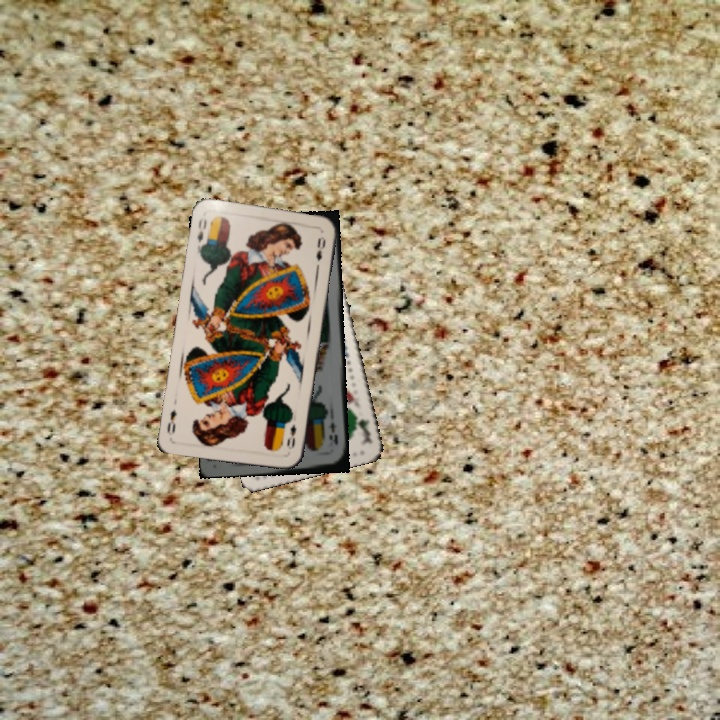EK: (324, 419, 341, 447)
EO: (283, 420, 299, 452), (193, 215, 209, 245)
GK: (352, 409, 375, 446)
